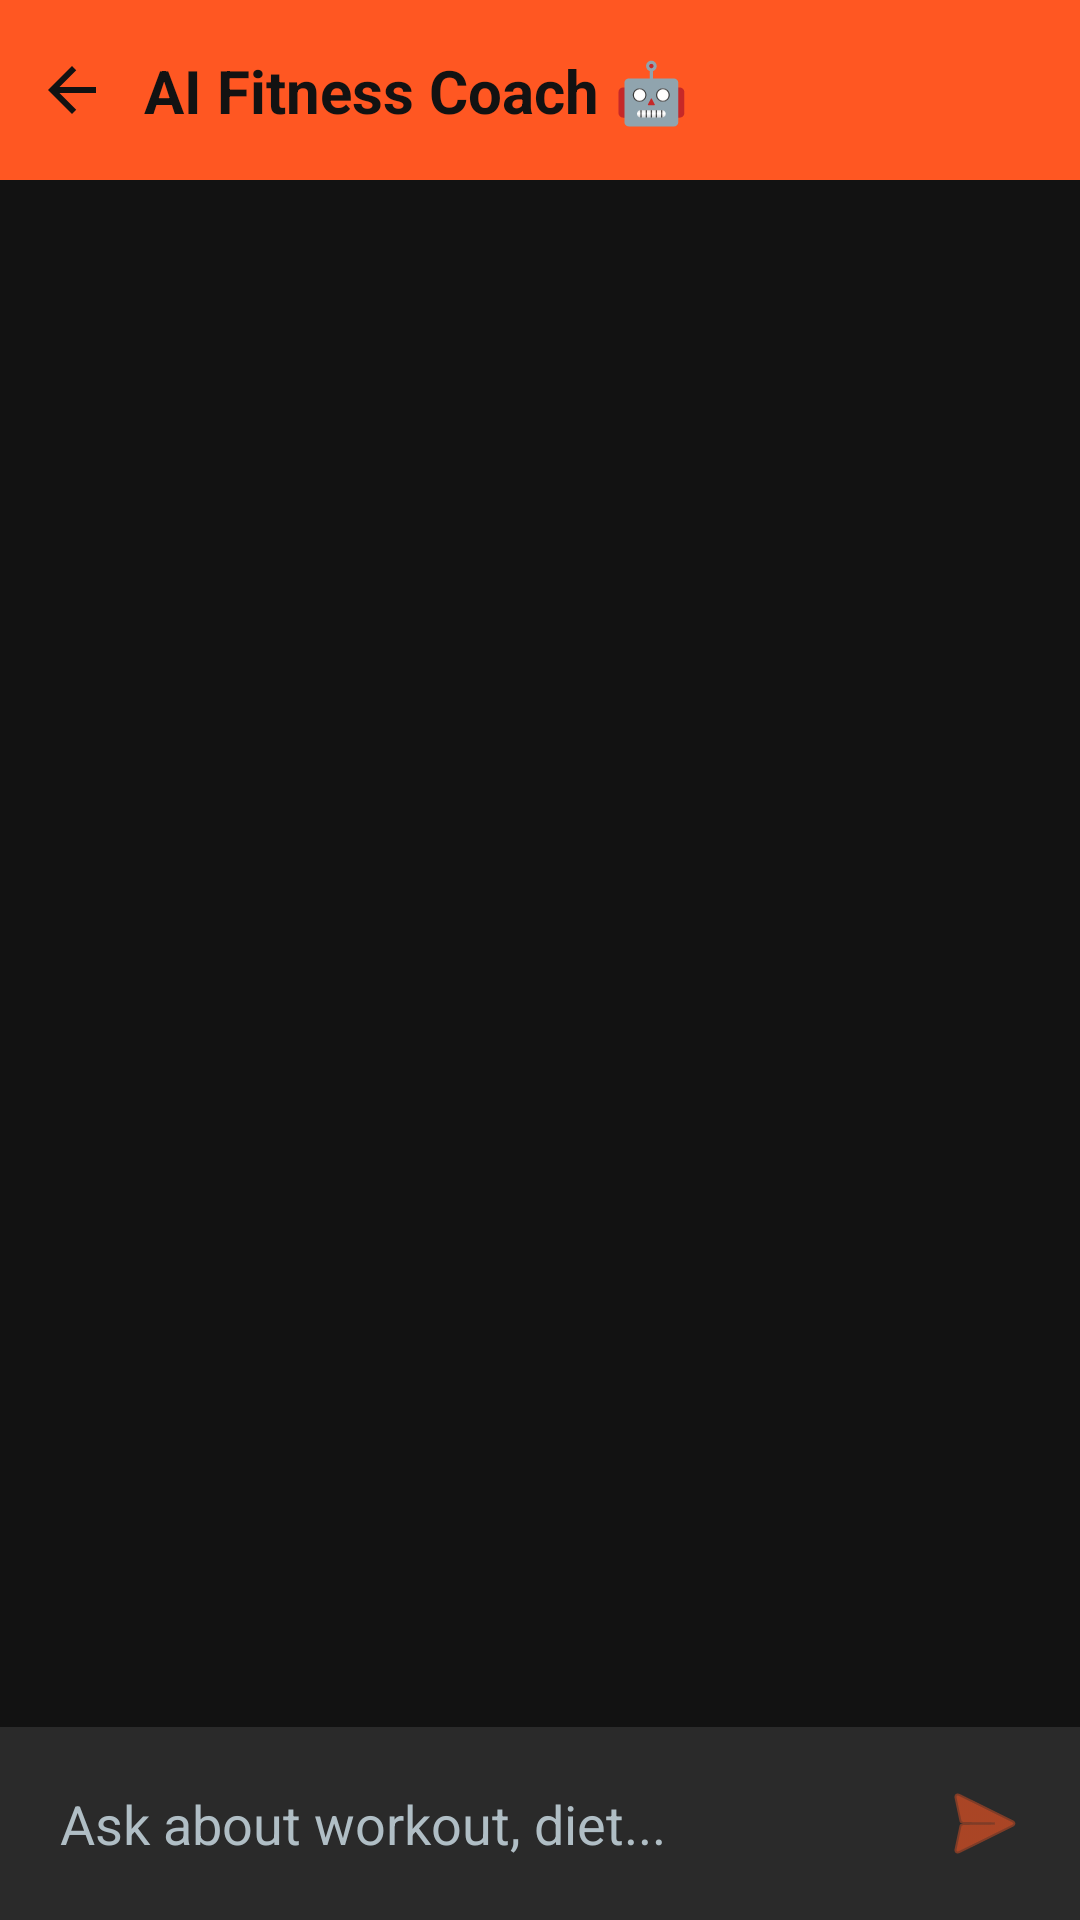

Icons on this 1080*1920 Android screen, each with the point to tap as point (x, y):
Go Back: point (72, 90)
send: point (985, 1823)
